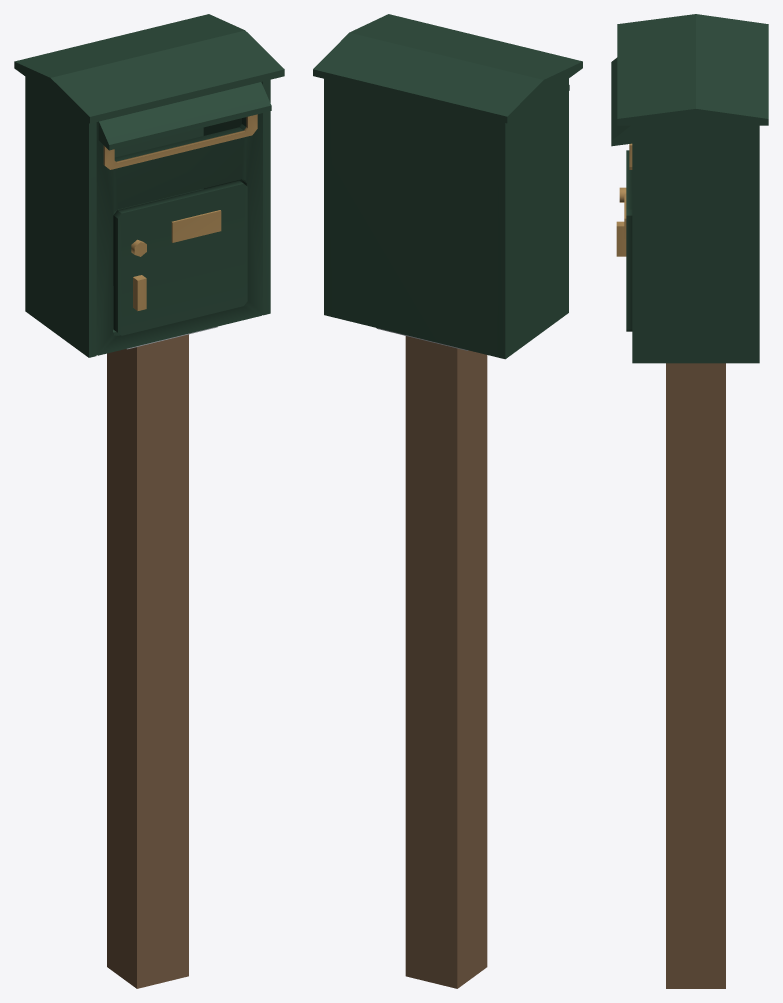
Rendered from letterbox.far.glb.
The picture shows the model from 3 angles, left to right: view 1: azimuth 30°, elevation 25°; view 2: azimuth 150°, elevation 25°; view 3: azimuth 270°, elevation 25°; orthographic projection.
Visible parts, largest first — view 1: letterbox; view 2: letterbox; view 3: letterbox.
Boxes of the visible parts, <box> form: letterbox: <box>14,14,284,988</box>; letterbox: <box>313,14,582,988</box>; letterbox: <box>611,14,768,988</box>.
Size of the model in its own units: 0.3 by 1.35 by 0.21.
